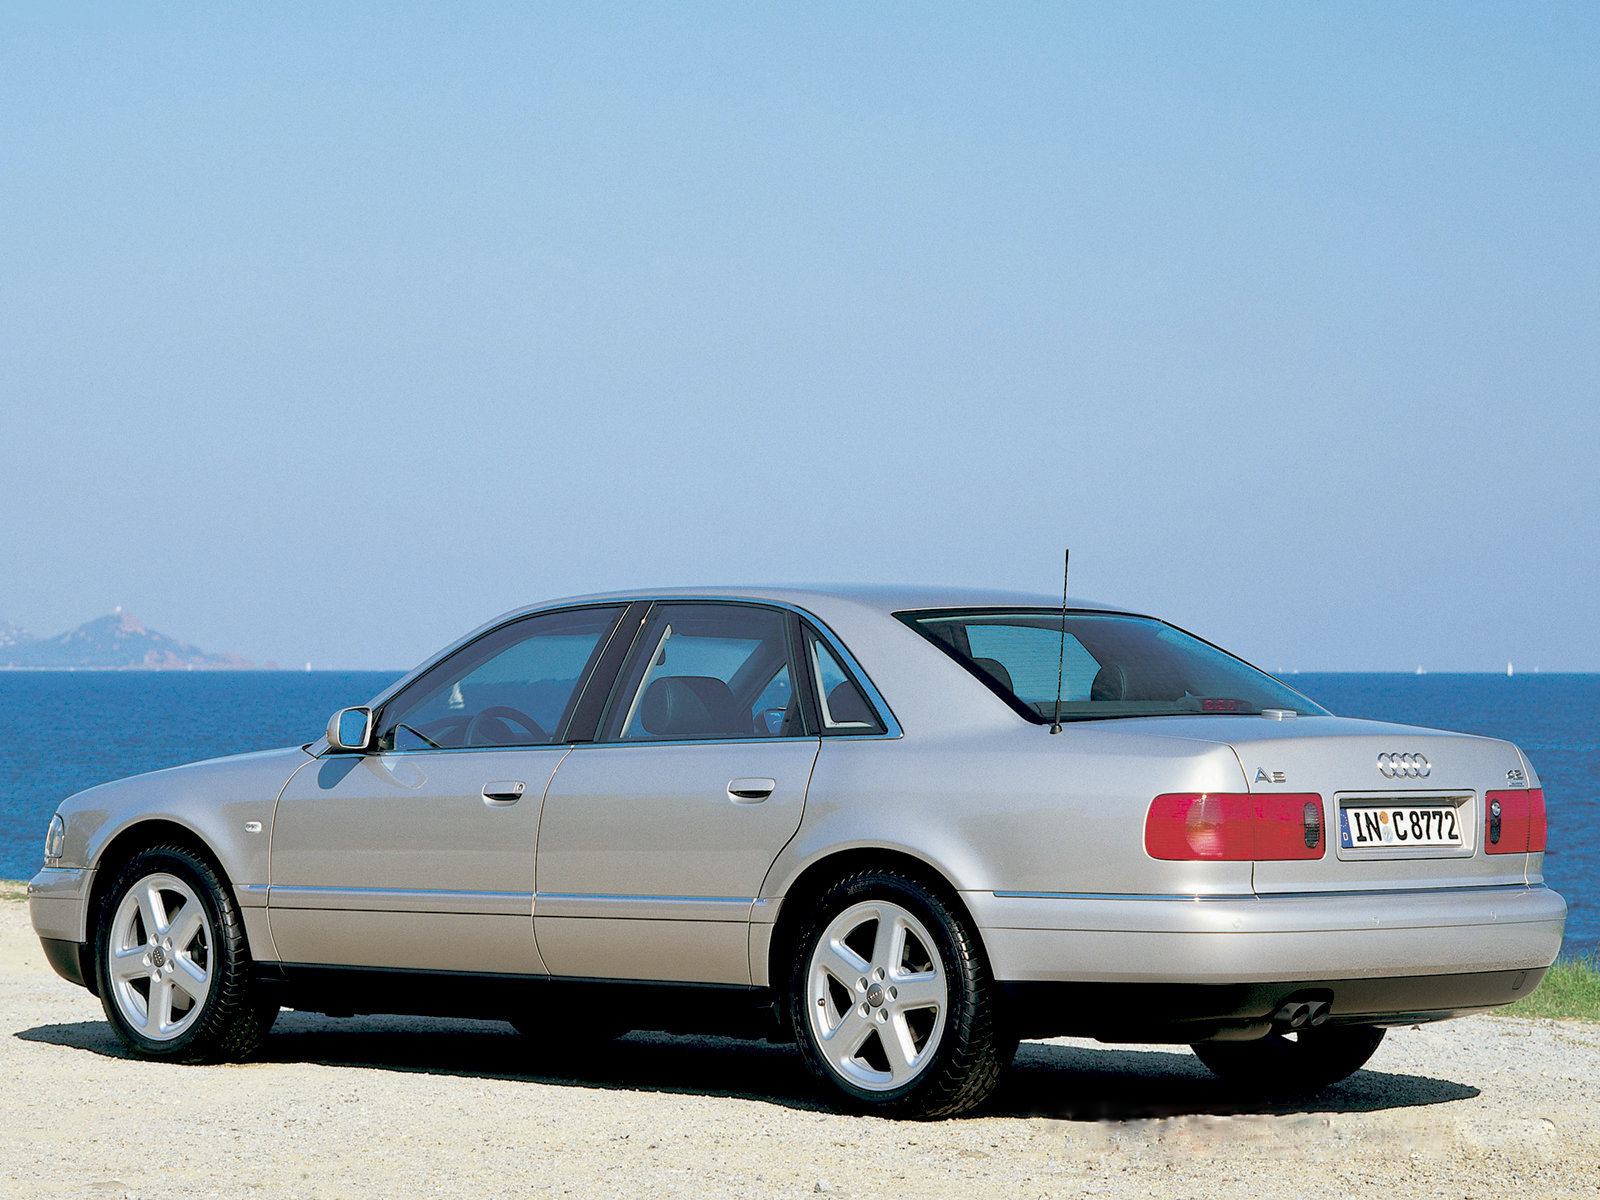plate: (1337, 803, 1466, 852)
